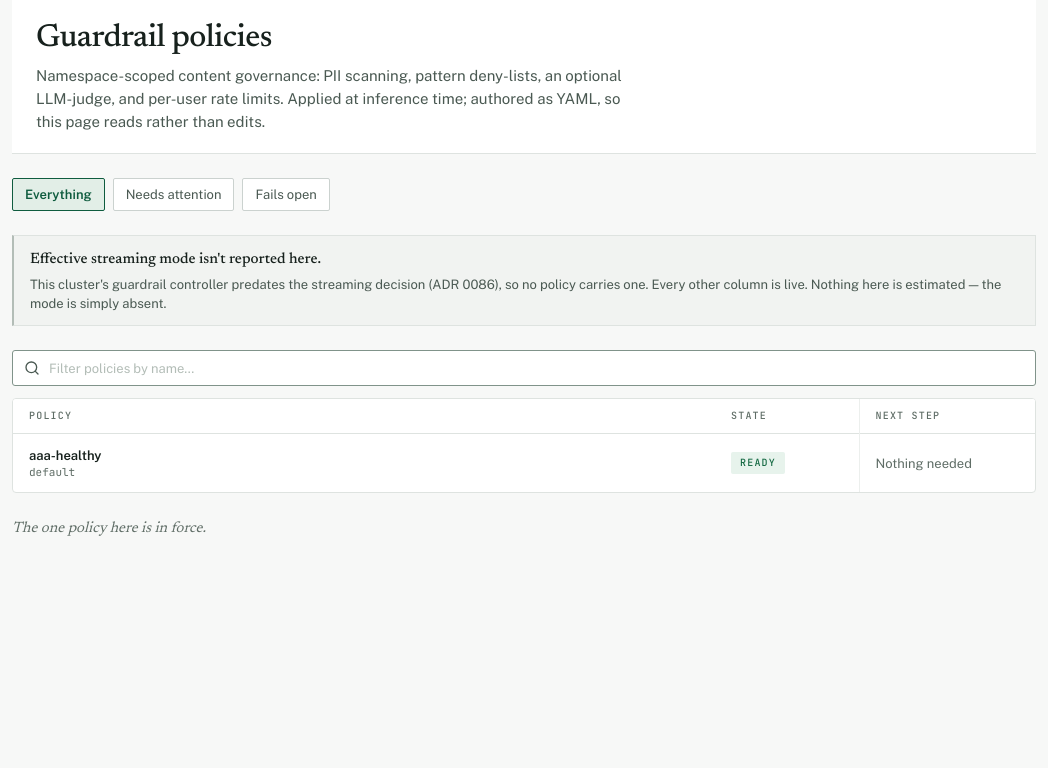
Test case: GuardrailPoliciesPage — A1 archetype (M151) › a chip that matched nothing is NOT the first-run empty state
The width and height of the screenshot is (1048, 768).
Check: the text "aaa-healthy" is shown, box [29,448,102,463]
Click the radio button labelled "Needs attention".
click(174, 194)  # box [113,178,234,211]
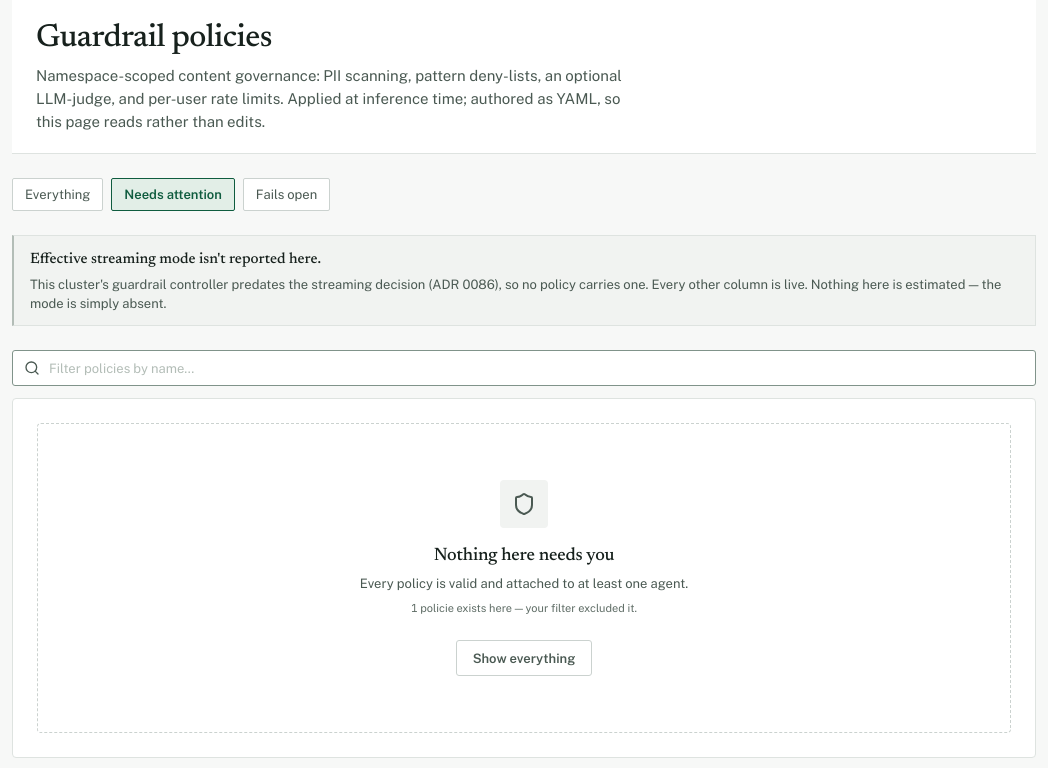
Check: the heading "Nothing here needs you" is shown, box [434,544,614,568]
Click the button "Show everything".
click(524, 658)  # box [456,640,592,676]
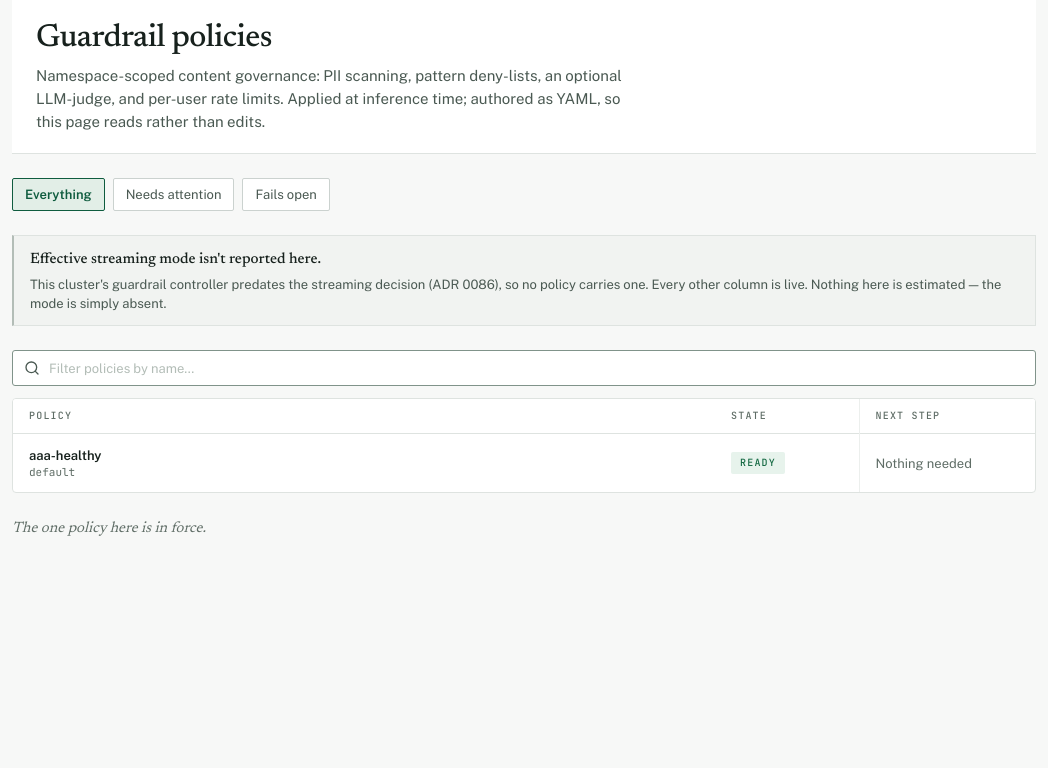
Check: the text "aaa-healthy" is shown, box [29,448,102,463]
